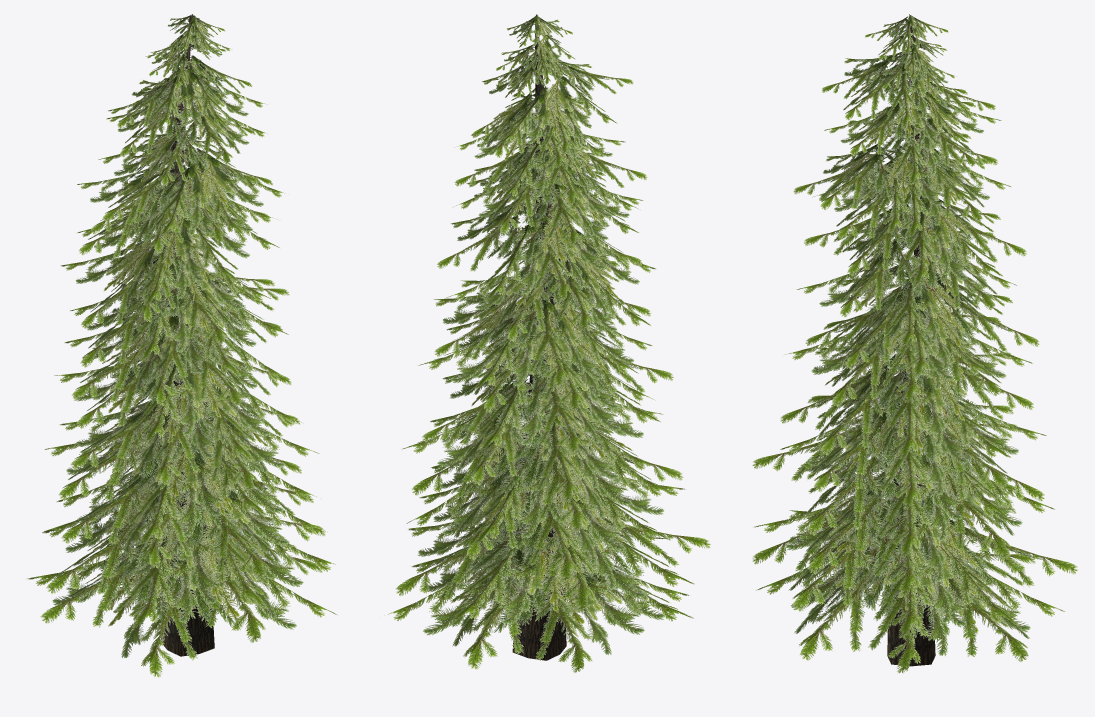
File: TreeNew.fbx
3 views of the same model, side by side, from view 1: azimuth 30°, elevation 25°; view 2: azimuth 150°, elevation 25°; view 3: azimuth 270°, elevation 25° (orthographic). The views are drawn at different scales.
Visible parts, largest first — view 1: pineBranch-removebg-preview.163; view 2: pineBranch-removebg-preview.163; view 3: pineBranch-removebg-preview.163.
Boxes of the visible parts, box(x1,y1,x2,y2) form: pineBranch-removebg-preview.163: box(27, 14, 336, 677); pineBranch-removebg-preview.163: box(388, 14, 710, 672); pineBranch-removebg-preview.163: box(752, 14, 1078, 673).
Size of the model in its own units: 1485 by 3105 by 1454.
Materials: 2 (2 with a texture image).
